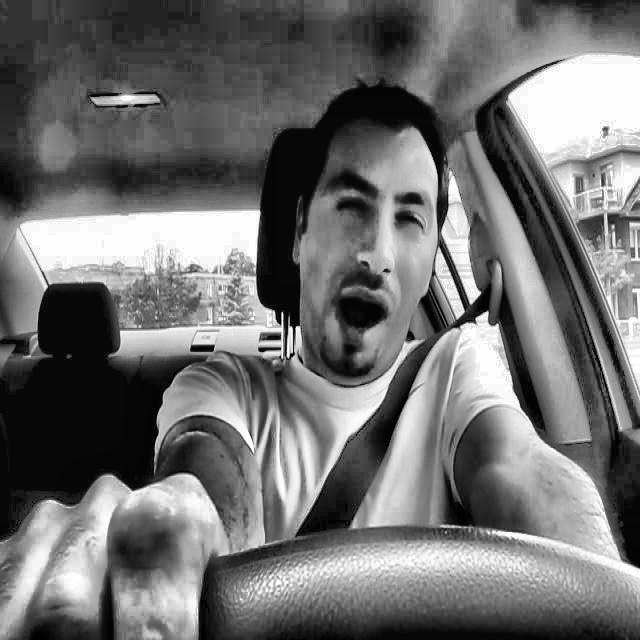closed_eyes: (320, 184, 374, 232), (387, 202, 435, 247)
open_mouth: (323, 281, 403, 357)
